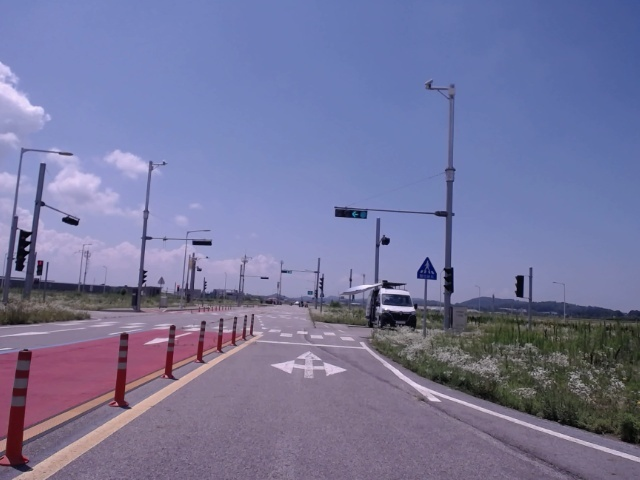all_green_4: (334, 206, 370, 219)
